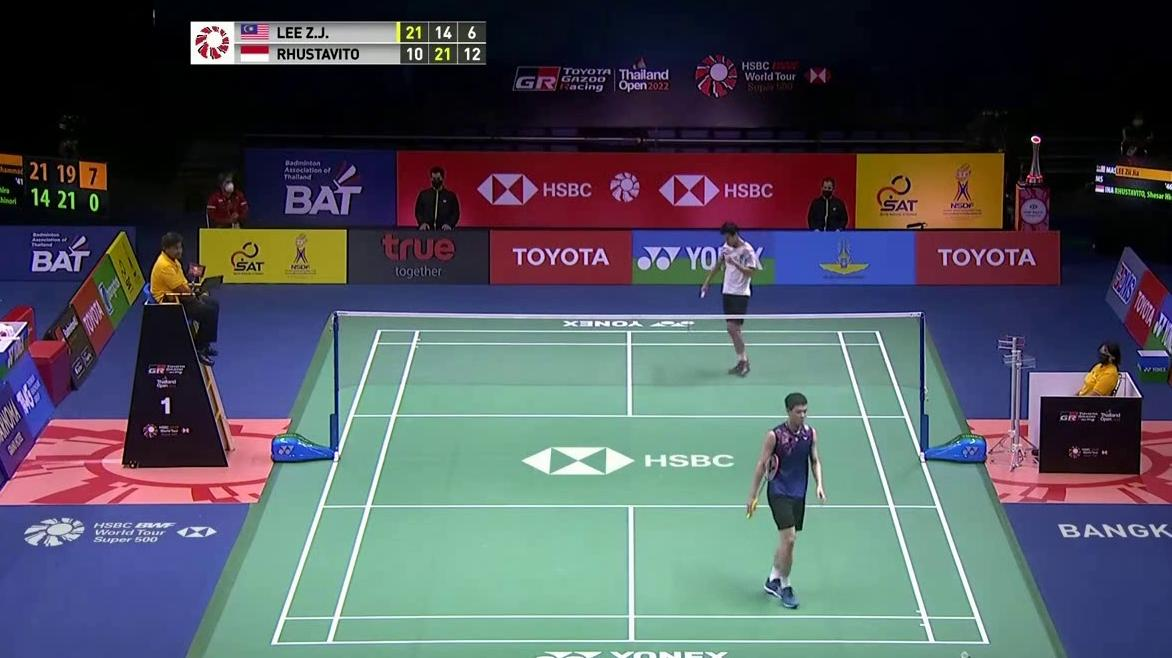racket: (744, 453, 779, 521), (685, 289, 708, 339)
shuttle: (958, 649, 972, 658)
